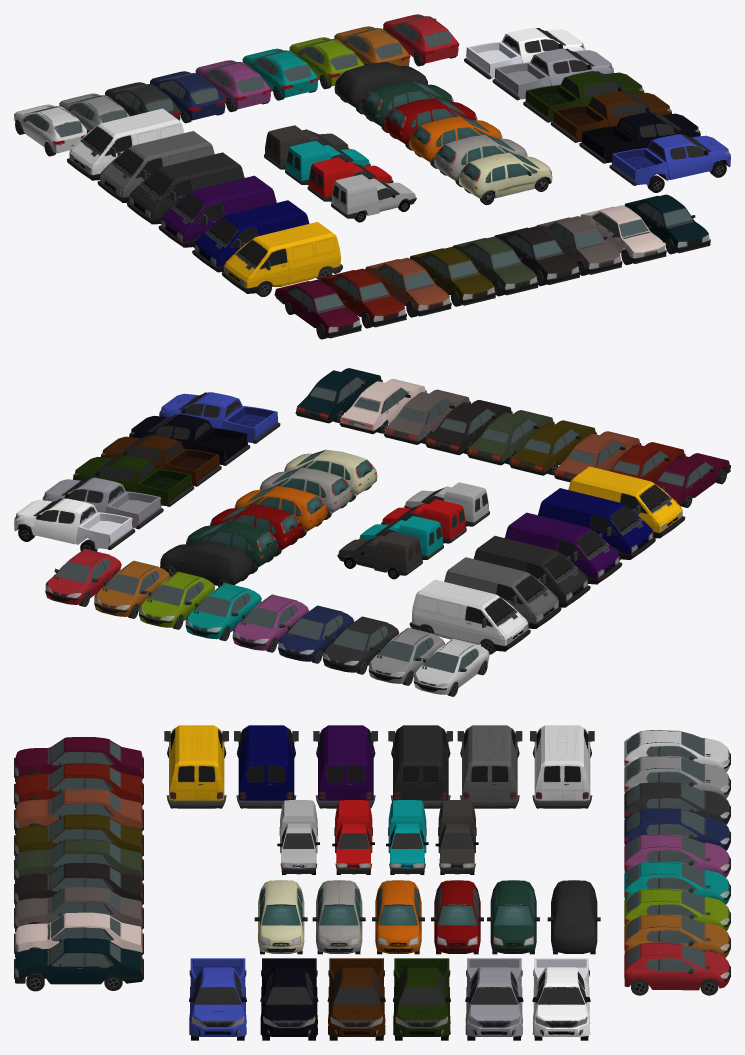
File: low_poly_cars_pack.glb
3 views of the same model, one above another, from view 1: azimuth 30°, elevation 25°; view 2: azimuth 150°, elevation 25°; view 3: azimuth 270°, elevation 25° (orthographic). The views are drawn at different scales.
Visible parts, largest first — view 1: Object_19, Object_17, Object_16, Object_14, Object_18, Object_15, Object_8, Object_57, Object_20, Object_21, Object_29, Object_22 (+40 smaller); view 2: Object_14, Object_18, Object_17, Object_15, Object_19, Object_16, Object_57, Object_3, Object_10, Object_43, Object_42, Object_46 (+40 smaller); view 3: Object_28, Object_14, Object_18, Object_10, Object_19, Object_15, Object_17, Object_16, Object_57, Object_32, Object_33, Object_35 (+38 smaller).
Part boxes in pixels (x1,y1,x2,y2): Object_19: (224,222,340,288); Object_17: (161,175,276,241); Object_16: (129,152,244,218); Object_14: (69,108,184,174); Object_18: (194,200,309,266); Object_15: (100,131,214,197); Object_8: (458,152,552,199); Object_57: (334,61,548,205); Object_20: (275,279,360,332); Object_21: (320,268,405,321); Object_29: (647,134,730,179); Object_22: (365,257,450,310); Object_14: (412,579,528,645); Object_18: (538,488,653,554); Object_17: (505,512,619,578); Object_15: (444,557,558,623); Object_19: (568,466,682,532); Object_16: (473,536,587,601); Object_57: (160,485,371,587); Object_3: (413,638,489,694); Object_10: (45,549,121,604); Object_43: (185,583,261,639); Object_42: (139,571,214,627); Object_46: (323,616,399,672); Object_28: (15,938,142,984); Object_14: (534,725,590,800); Object_18: (238,725,294,800); Object_10: (624,942,730,990); Object_19: (169,725,224,800); Object_15: (462,725,517,800); Object_17: (318,725,373,800); Object_16: (393,725,448,800); Object_57: (254,880,600,954); Object_32: (260,967,317,1036); Object_33: (328,967,385,1036); Object_35: (465,967,522,1036).
Size of the model in its own units: 22.26 by 1.89 by 23.39.
55 materials, 46 textured.
